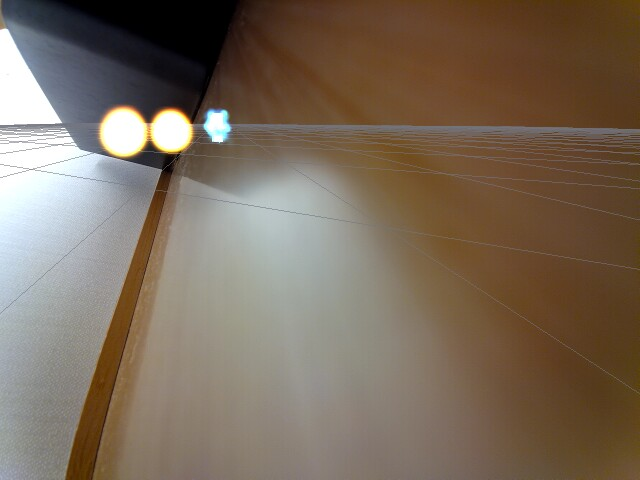firebig: (97, 99, 148, 160)
